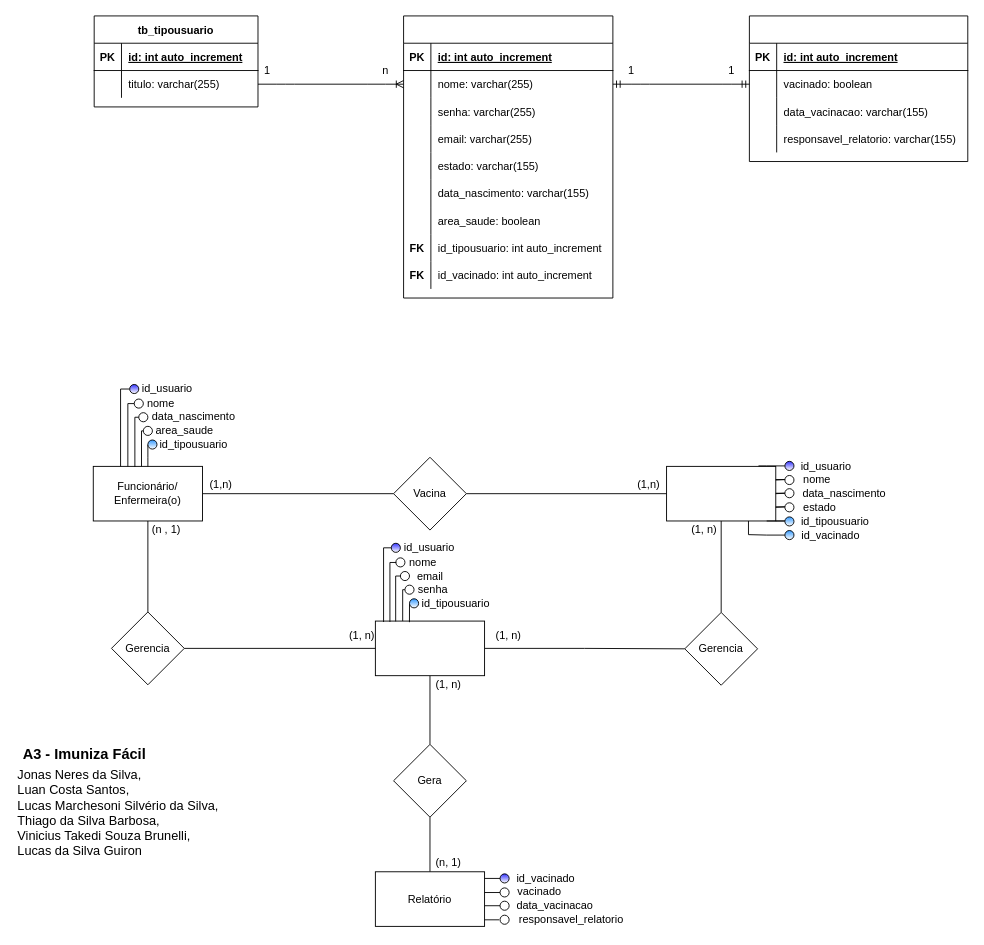
This 984x945 diagram has some shape labels left out. Here are the shapes that lost their labels. From the top down, the box of each, then its label:
(748, 15, 968, 162): tb_vacinado
(403, 15, 613, 298): tb_usuario
(666, 465, 776, 521): Usuário/ Paciente
(374, 620, 485, 676): Administrador
